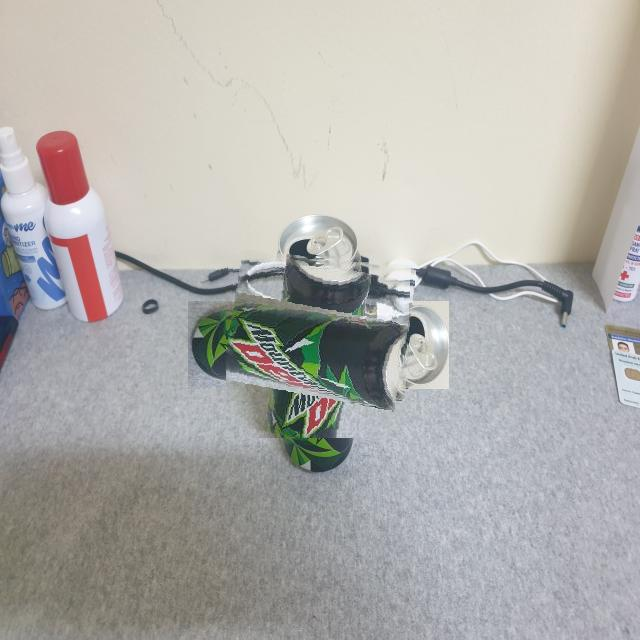recyclable: (226, 253, 411, 438)
